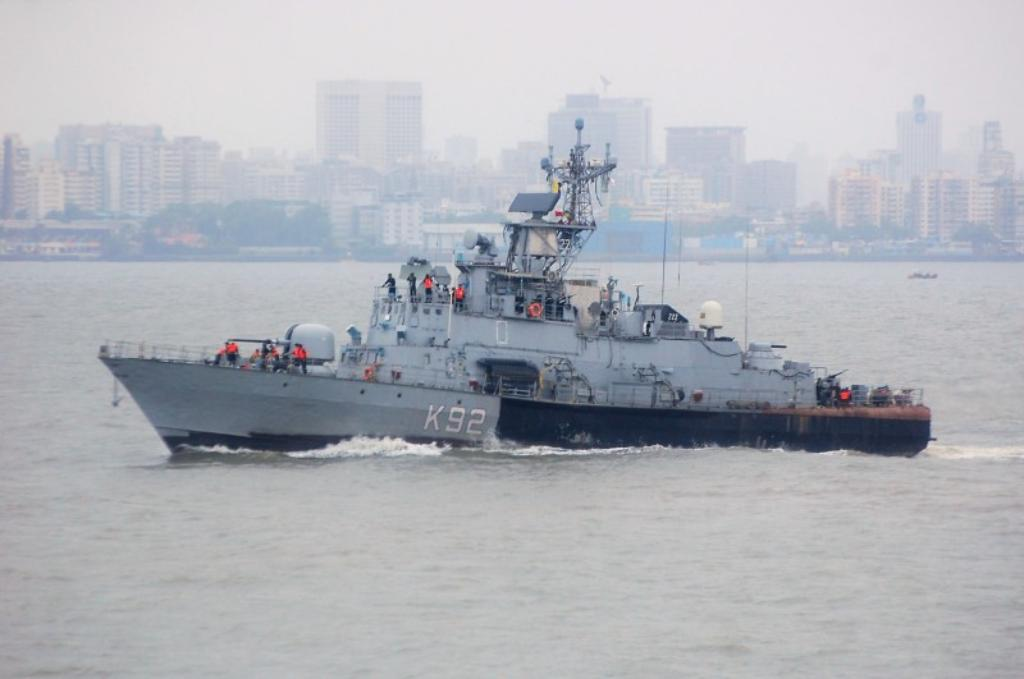Warship: (97, 119, 943, 468)
